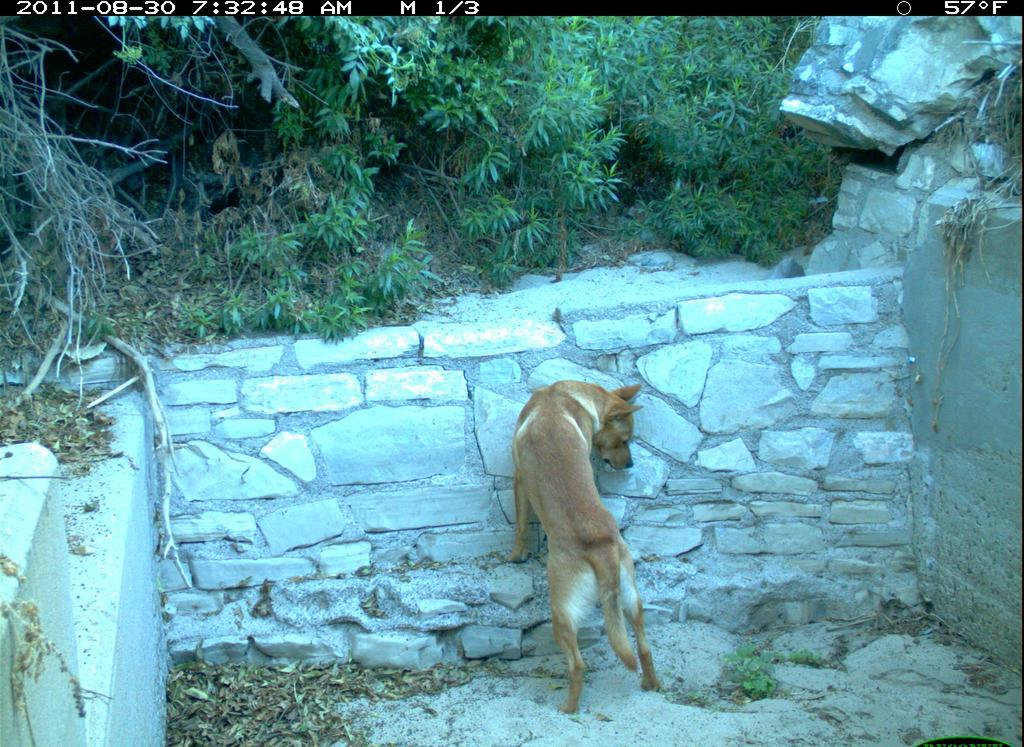dog: (502, 364, 710, 716)
